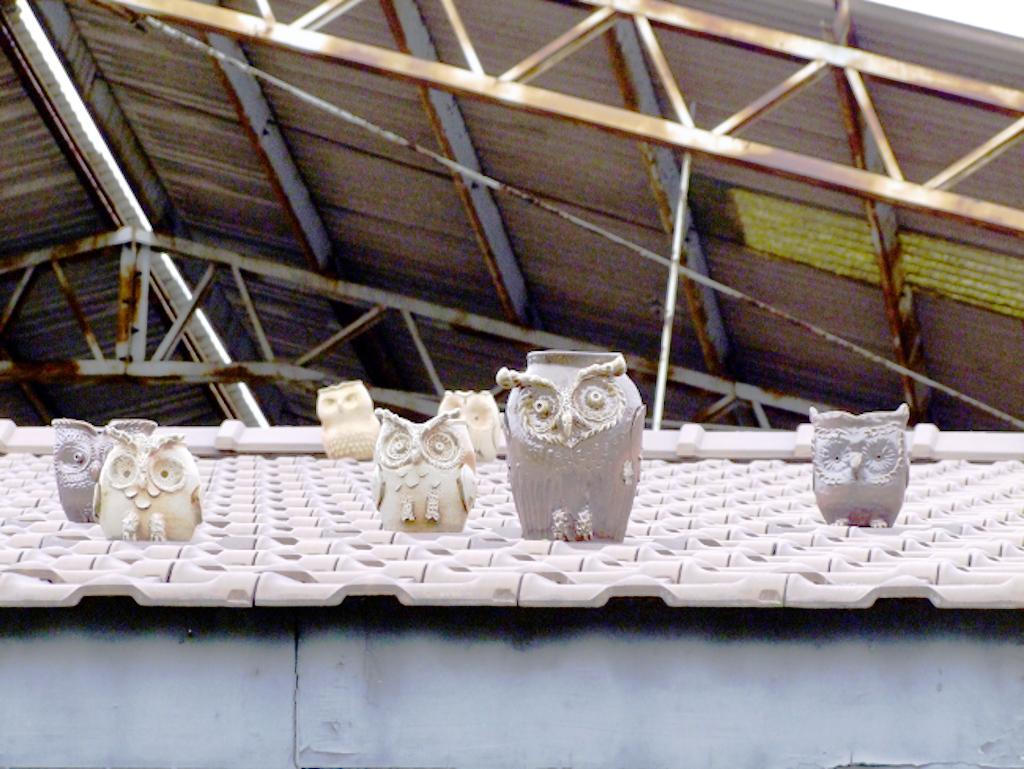Owl: (501, 354, 646, 554), (812, 394, 910, 528), (370, 408, 474, 531), (96, 419, 200, 536), (54, 419, 154, 517), (316, 378, 382, 454), (440, 394, 506, 463)
